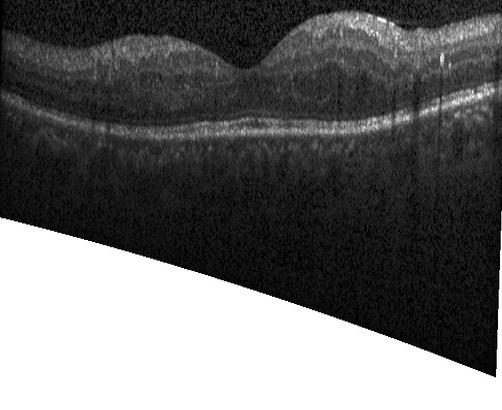vitreomacular_traction: (382, 14, 469, 25)
